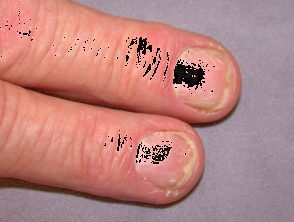Nail_psoriasis: (106, 98, 222, 215), (164, 34, 244, 123)
